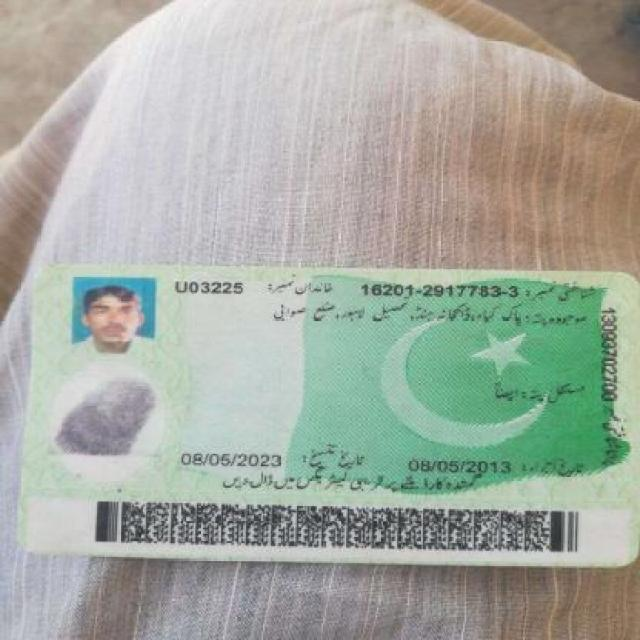Back: (30, 264, 632, 576)
